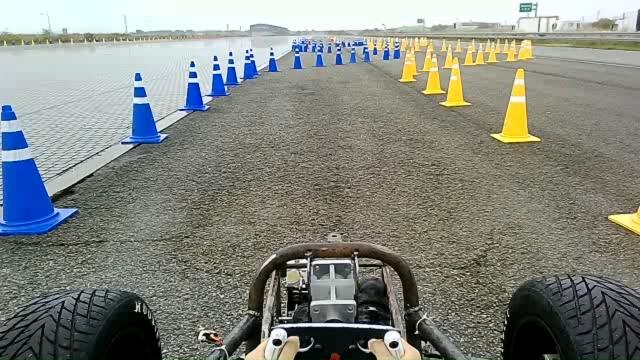blue cone: (0, 103, 79, 236), (120, 72, 168, 144), (178, 60, 210, 112), (206, 55, 230, 96), (223, 49, 239, 87), (264, 47, 281, 72), (240, 50, 254, 80), (248, 45, 260, 77)
yellow cone: (490, 68, 540, 143), (439, 56, 472, 108), (421, 54, 446, 96), (396, 52, 416, 84)
